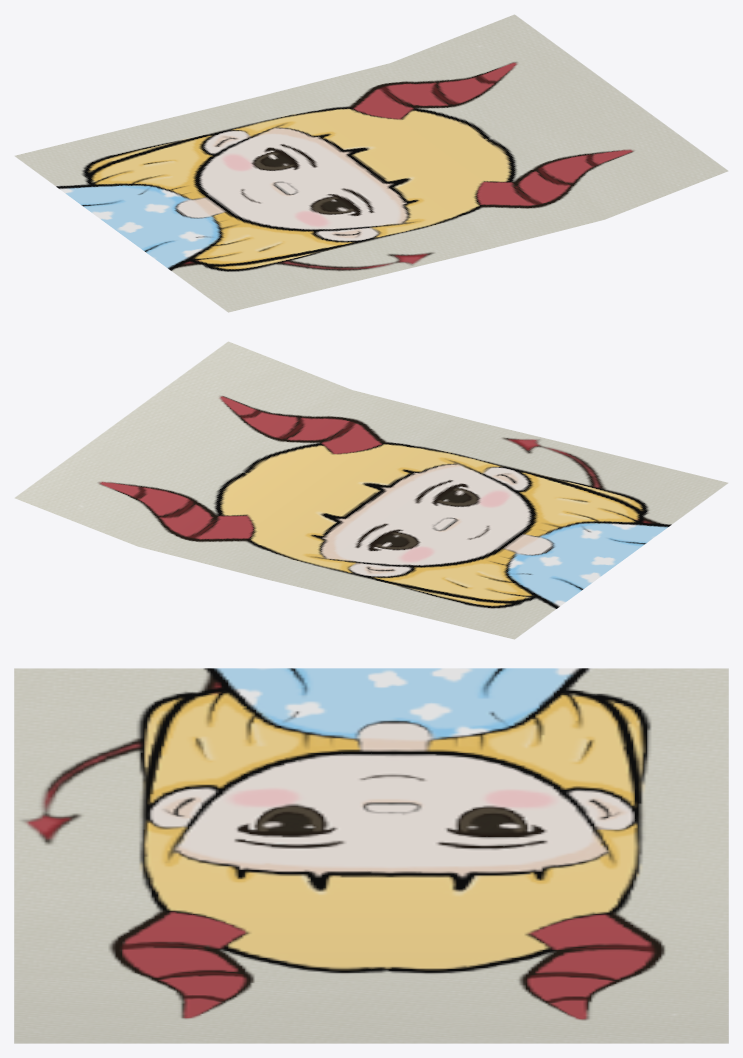
Rendered from Drawing of Grace.fbx.
3 views of the same model, one above another, from view 1: azimuth 30°, elevation 25°; view 2: azimuth 150°, elevation 25°; view 3: azimuth 270°, elevation 25° (orthographic). The views are drawn at different scales.
Visible parts, largest first — view 1: Drawing_of_Grace; view 2: Drawing_of_Grace; view 3: Drawing_of_Grace.
Part boxes in pixels (bbox=[...]): Drawing_of_Grace: bbox=[14, 14, 728, 312]; Drawing_of_Grace: bbox=[14, 341, 728, 639]; Drawing_of_Grace: bbox=[14, 668, 728, 1043].
Size of the model in its own units: 2.8 by 0.1056 by 2.08.
Materials: 1 (1 with a texture image).
